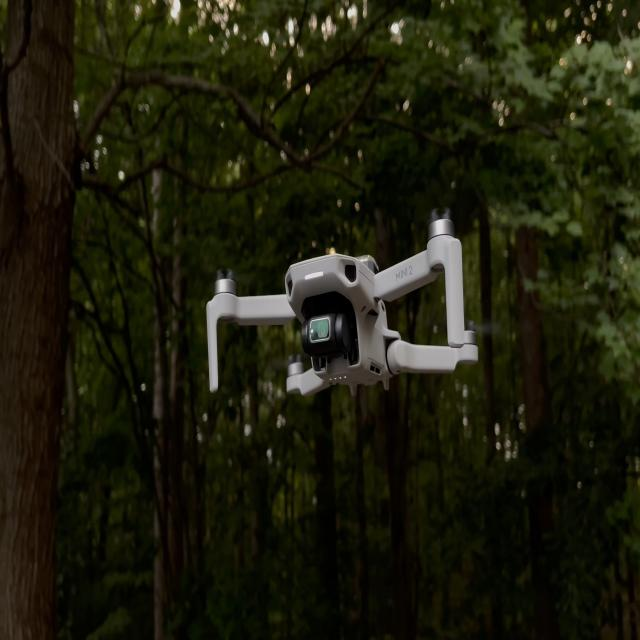Drone: (207, 226, 476, 399)
